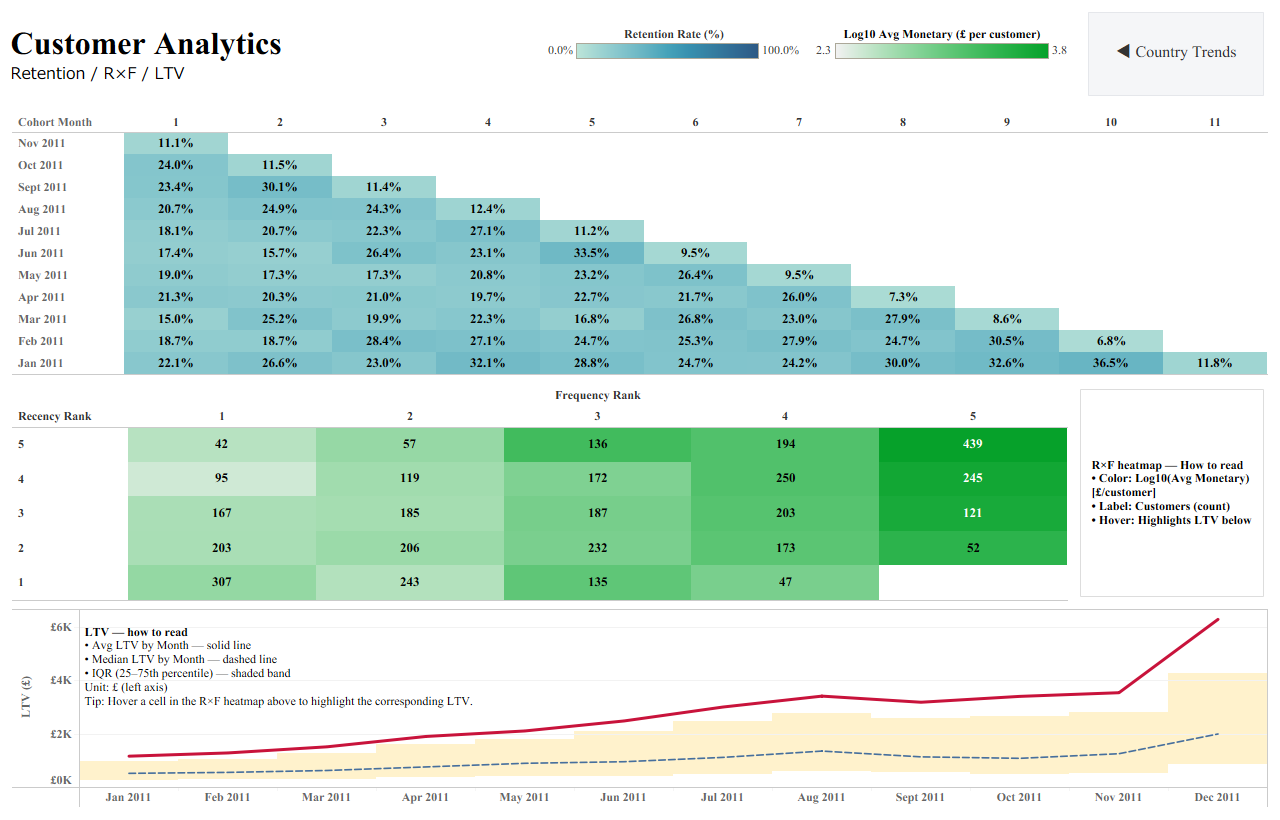

What the dashboard file says about the page in this screenshot:
{"tool":"tableau","page":{"name":"Customer Analytics — Cohort · R×F · LTV","canvas":[1280,820],"ordinal":1},"visuals":[{"type":"text","box":[4,4,536,100]},{"type":"blank","box":[540,4,268,15]},{"type":"blank","box":[808,4,268,15]},{"type":"dashboard-object","box":[1076,4,200,100]},{"type":"legend","title":"Cohort Heatmap","param":"[federated.01g7nas1hjsnvk1akn1o415ea1qt].[avg:retention_rate:qk]","box":[540,19,268,59]},{"type":"legend","title":"R×F Heatmap","param":"[federated.0mh1n6j1pskiuc11mp10r0ls5gw1 (コピー)].[usr:Calculation_2871889231757557","box":[808,19,268,59]},{"type":"blank","box":[540,78,268,15]},{"type":"blank","box":[808,78,268,15]},{"type":"worksheet","title":"Cohort Heatmap","mark":"Square","rows":["cohort_month"],"cols":["cohort_index"],"box":[8,108,1264,271]},{"type":"worksheet","title":"Cohort Heatmap (Phone)","mark":"Square","rows":["cohort_month"],"cols":["cohort_index"],"box":[8,379,1264,2]},{"type":"worksheet","title":"R×F Heatmap","mark":"Square","rows":["R"],"cols":["F"],"box":[8,381,1064,224]},{"type":"text","box":[1072,381,200,224]},{"type":"worksheet","title":"Avg/Median LTV","mark":"Automatic","rows":["Calculation_2871889231765549060","Calculation_2871889231765614597"],"cols":["order_month"],"box":[8,605,1264,207]},{"type":"text","box":[82,613,433,108]}]}

Visuals, with their boxes in screenshot pixels (x1, y1, x2, y2), scaled from the page's 1280x820 canvas onto the 1280x820 screenshot:
text: (4,4,540,104)
blank: (540,4,808,19)
blank: (808,4,1076,19)
dashboard-object: (1076,4,1276,104)
"Cohort Heatmap" legend: (540,19,808,78)
"R×F Heatmap" legend: (808,19,1076,78)
blank: (540,78,808,93)
blank: (808,78,1076,93)
"Cohort Heatmap" worksheet (Square marks): (8,108,1272,379)
"Cohort Heatmap (Phone)" worksheet (Square marks): (8,379,1272,381)
"R×F Heatmap" worksheet (Square marks): (8,381,1072,605)
text: (1072,381,1272,605)
"Avg/Median LTV" worksheet: (8,605,1272,812)
text: (82,613,515,721)
